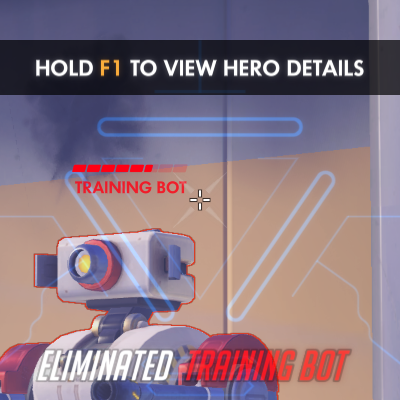hpbar: (71, 164, 188, 173)
